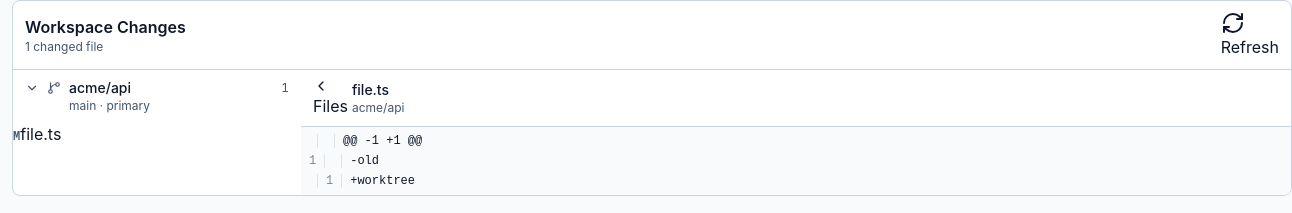
Test: switches to the available comparison when a refreshed file moves from unstaged to staged
expect the text "+worktree" is shown: met, box x1=350 y1=174 x2=415 y2=188
Click the button "Refresh" at (1250, 35), box x1=1221 y1=11 x2=1279 y2=59
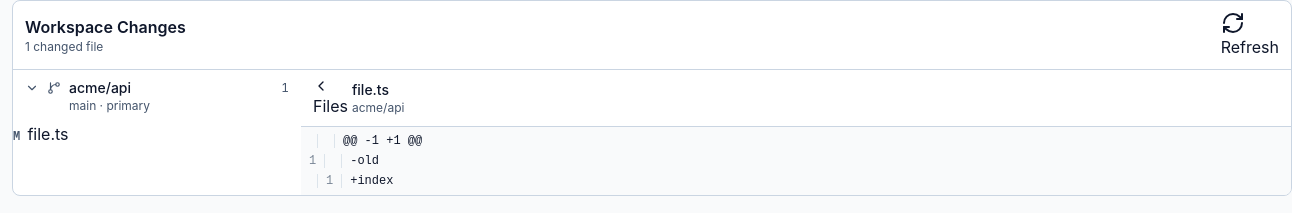
expect the text "+index" is shown: met, box x1=350 y1=174 x2=393 y2=188
